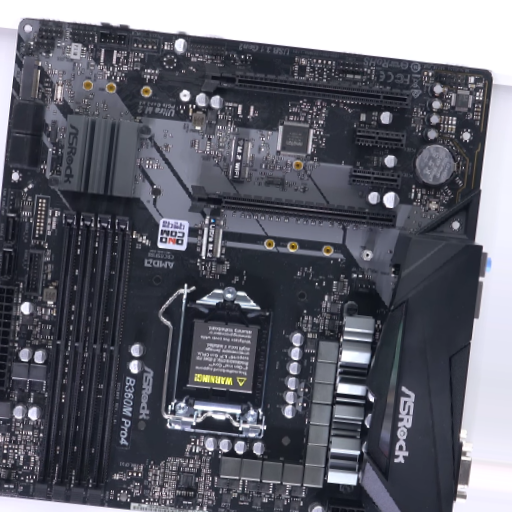CPU: (167, 286, 275, 436)
GPU: (202, 61, 411, 111), (189, 185, 397, 229)
MOTHERBOARD: (1, 19, 492, 509)
RAM: (33, 211, 134, 503)
SSD: (201, 215, 222, 265), (230, 137, 249, 182)
